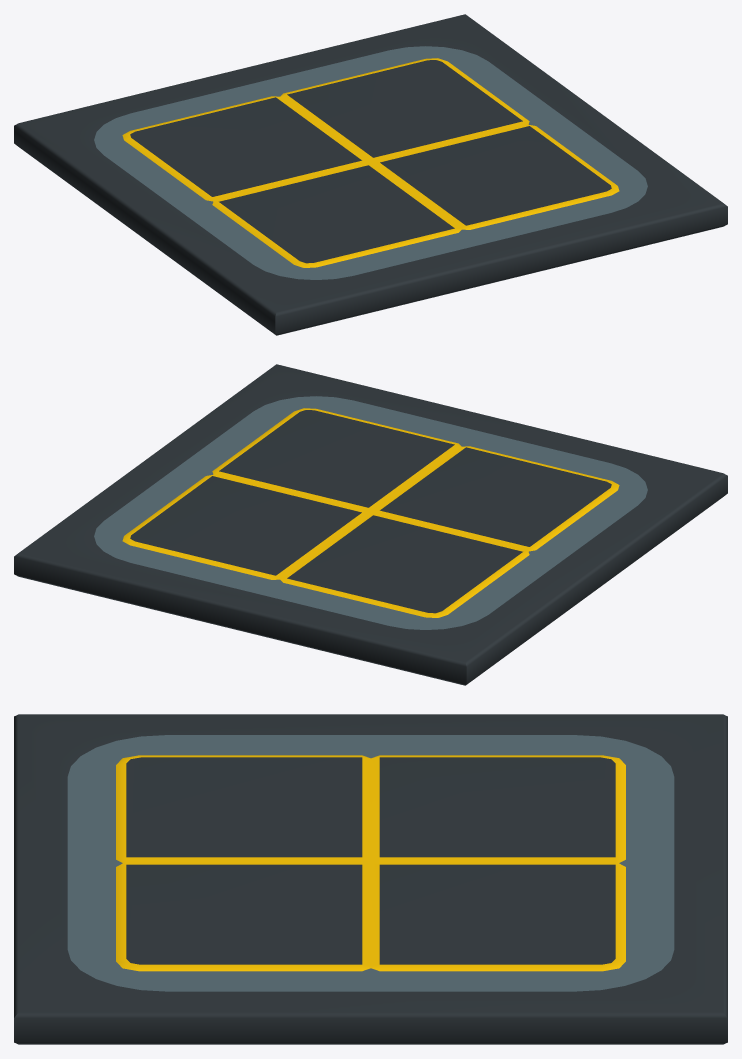
The model's file is Platform_011.fbx.
The picture shows the model from 3 angles, top to bottom: view 1: azimuth 30°, elevation 25°; view 2: azimuth 150°, elevation 25°; view 3: azimuth 270°, elevation 25°; orthographic projection. The views are drawn at different scales.
Visible parts, largest first — view 1: Platform_011; view 2: Platform_011; view 3: Platform_011.
Boxes of the visible parts, x1,y1,x2,y2 form: Platform_011: [14, 14, 727, 335]; Platform_011: [14, 364, 727, 685]; Platform_011: [14, 714, 727, 1044].
Size of the model in its own units: 400 by 400 by 22.69.
